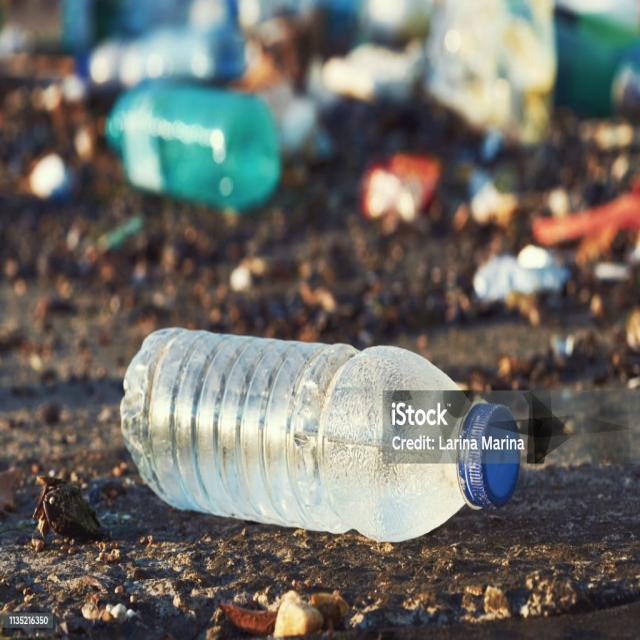bottle: (119, 325, 522, 544)
